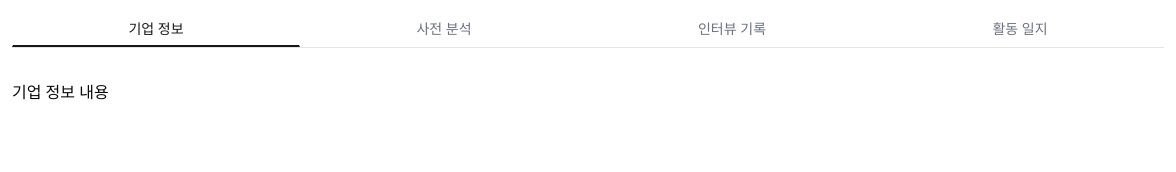
ProjectDetailTabs › 탭 전환 › "사전 분석" 탭 클릭 시 해당 내용이 표시된다
Click the tab "사전 분석" at (444, 30), box [300, 12, 588, 46]
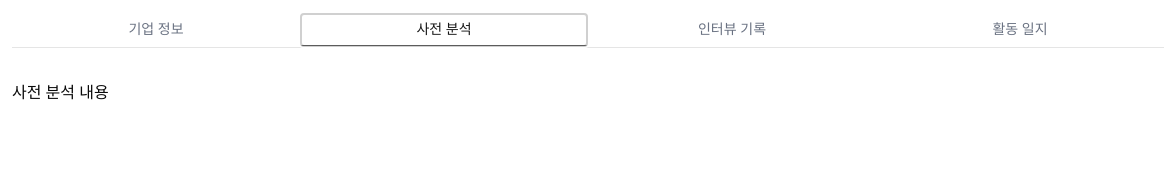
expect the text "사전 분석 내용" is shown: met, box [12, 81, 109, 103]
